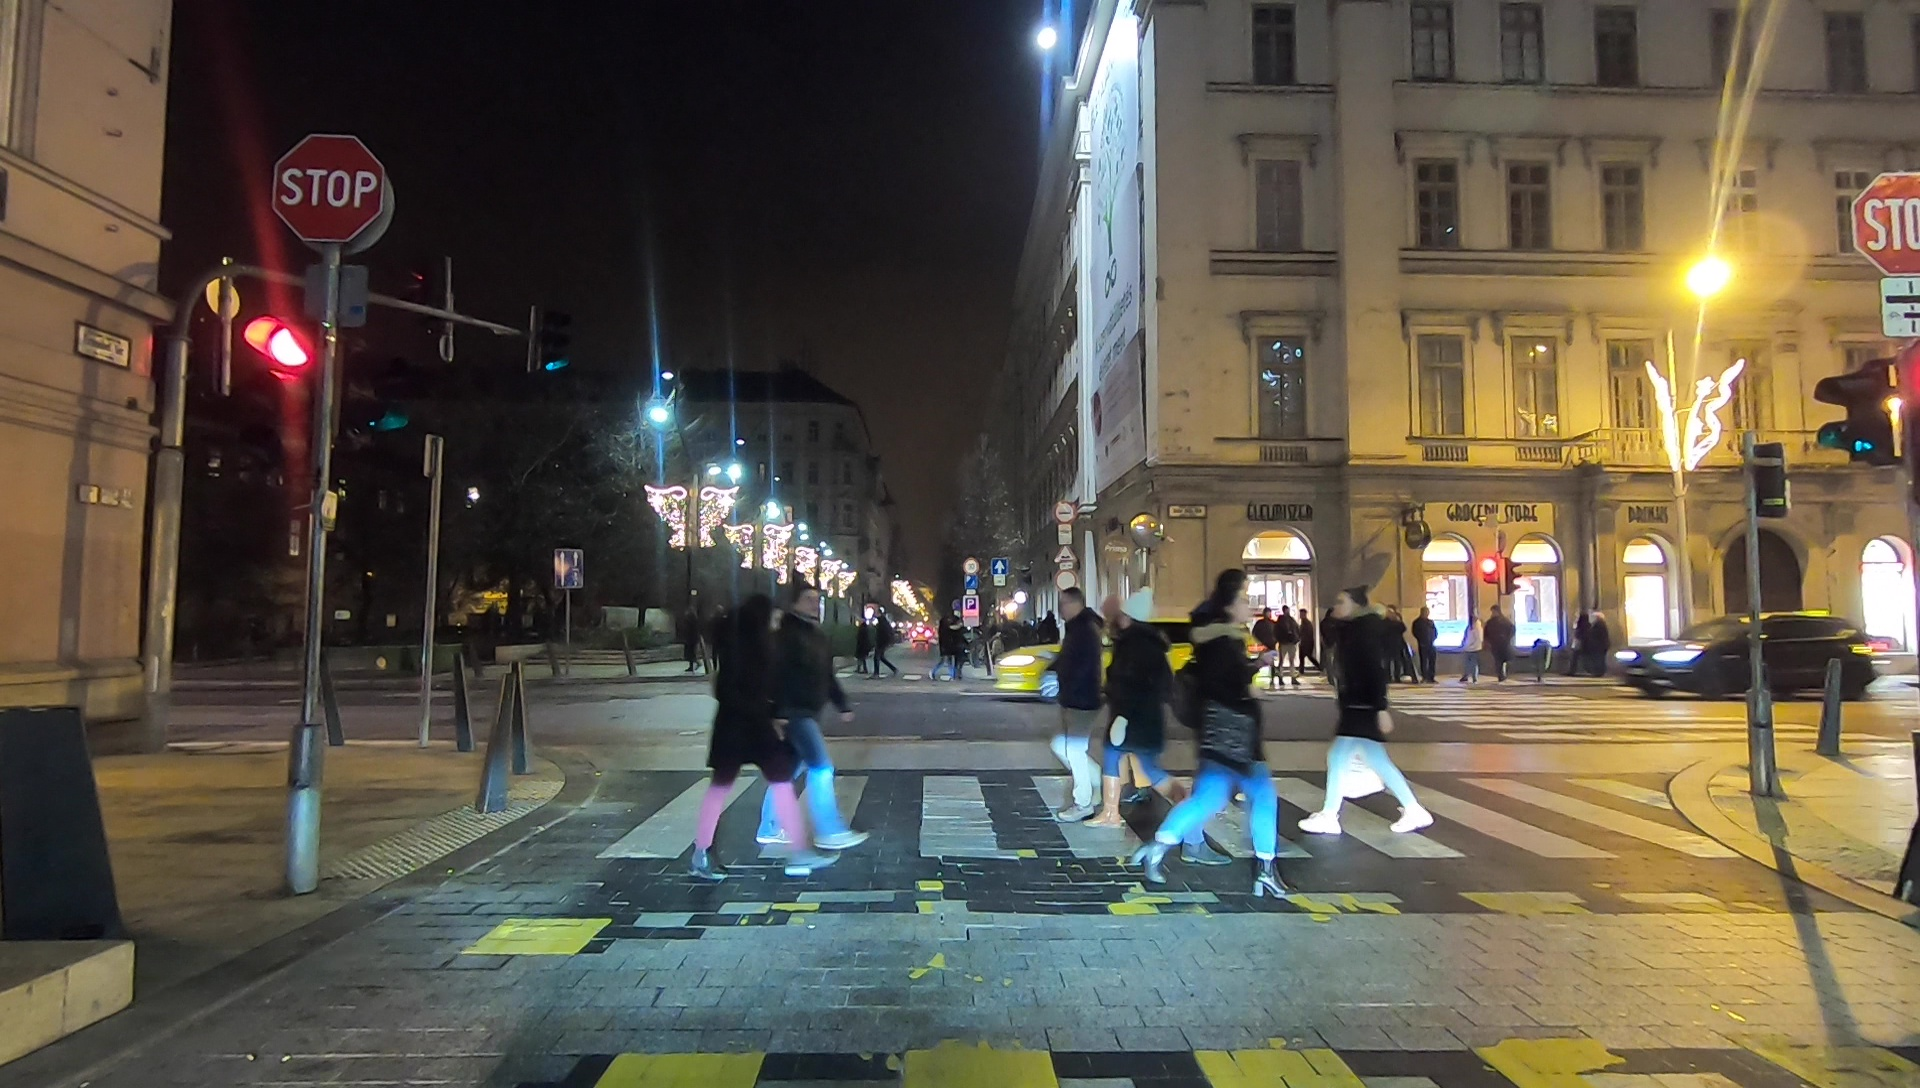person: (1158, 591, 1289, 897), (691, 600, 815, 882), (1308, 573, 1425, 841), (765, 580, 869, 850), (1102, 595, 1173, 830), (1045, 589, 1102, 819), (871, 615, 897, 680), (1489, 608, 1512, 676), (1415, 608, 1438, 678), (1299, 602, 1319, 678), (1256, 613, 1276, 678), (1462, 610, 1482, 676), (1280, 604, 1299, 674), (936, 611, 954, 678), (852, 619, 869, 678)
